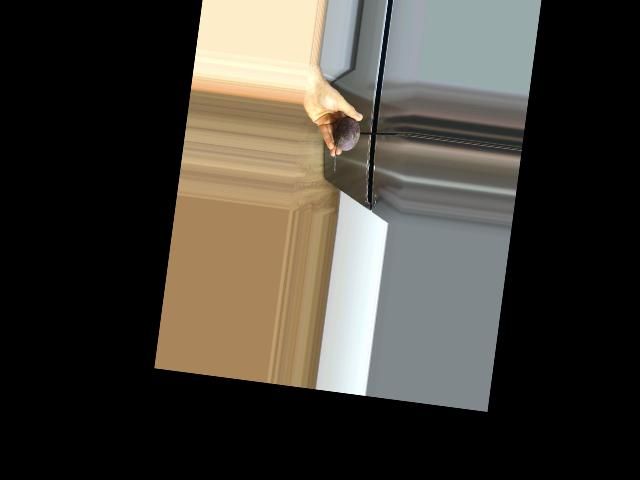beet: (328, 115, 361, 175)
